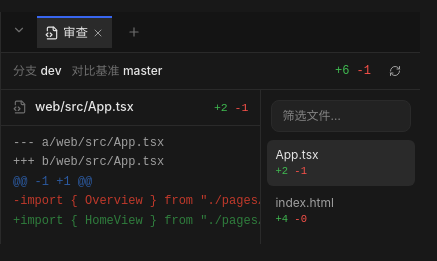
Test case: ToolsPanel ReviewPane › 筛选文件列表
Expected: the text "web/src/App.tsx" is shown, [35,98,134,117]
Type "index" into the field labelled "筛选文件…".
click(341, 116); type("index")  # box [282,107,400,125]
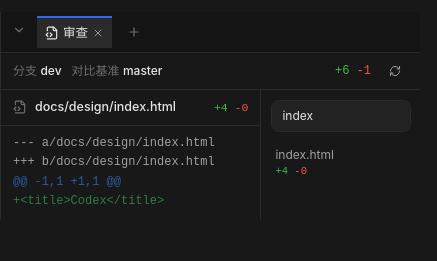
Expected: the text "web/src/App.tsx" is gone
Expected: the text "docs/design/index.html" is shown, [35,98,176,117]
